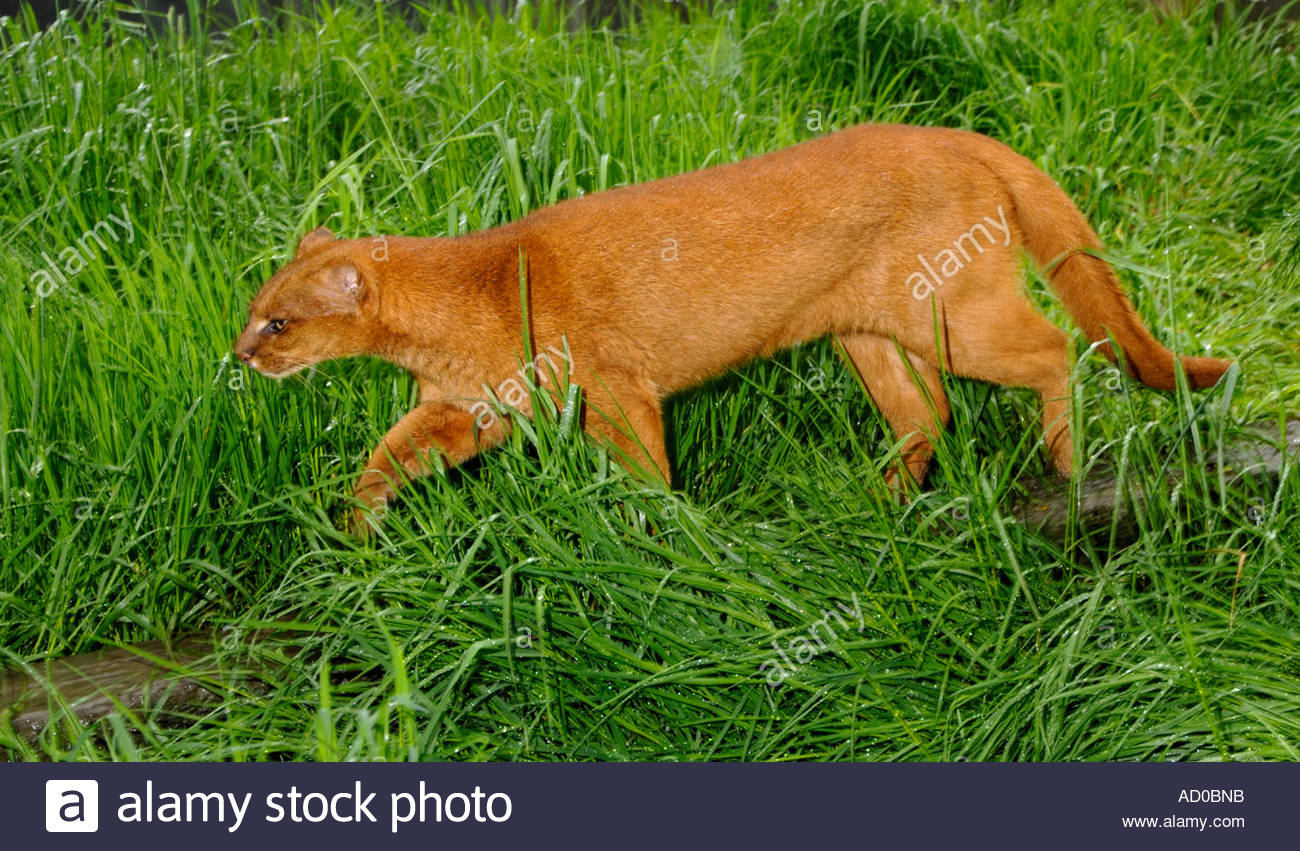Jaguarundi: (235, 117, 1235, 509)
